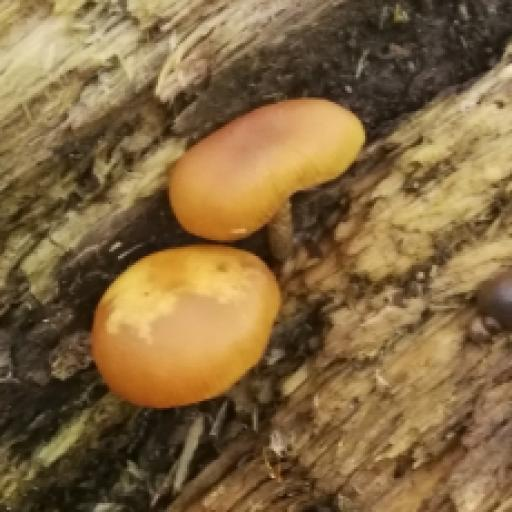mushroom: (150, 47, 379, 283), (91, 243, 284, 409)
